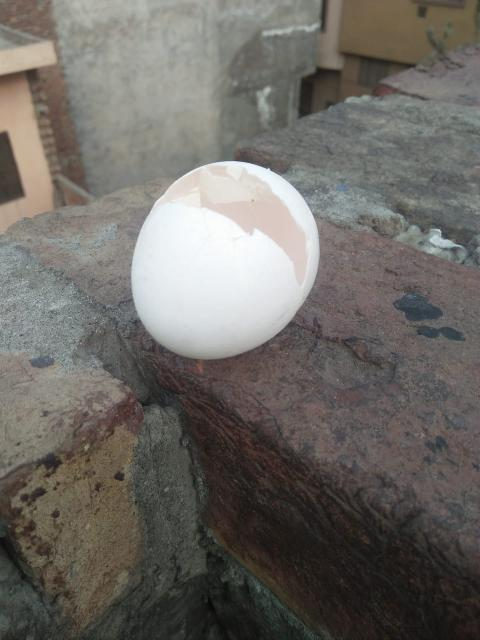Roto: (130, 160, 320, 360)
